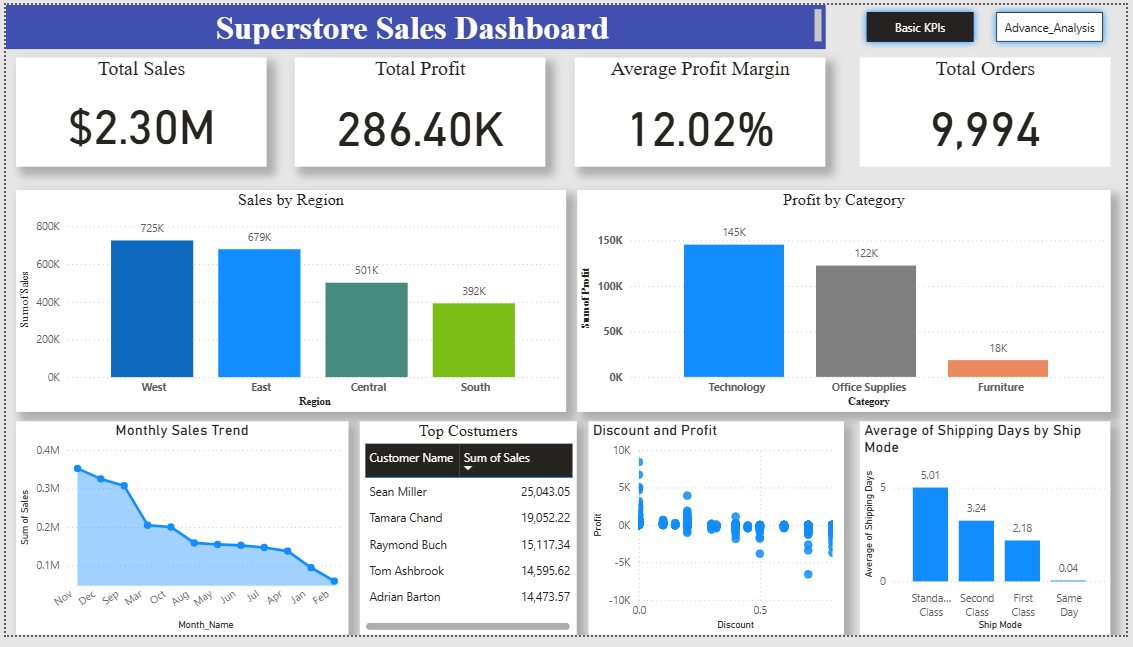

Layout of this report page (visuals, bound fields, positions):
{"tool":"powerbi","page":{"name":"Basic KPIs","canvas":[1280,720],"ordinal":0},"visuals":[{"type":"textbox","box":[0,0,937.1,50],"z":0},{"type":"card","title":"Total Sales","fields":{"Values":["clean_superstore_data.Total_sales"]},"box":[11,60.4,286.8,124.9],"z":1000},{"type":"card","title":"Total Profit","fields":{"Values":["clean_superstore_data.Total_profit"]},"box":[330.7,60.4,286.8,124.9],"z":2000},{"type":"card","title":"Average Profit Margin","fields":{"Values":["clean_superstore_data.Average_profit_margin"]},"box":[650.4,60.4,286.8,124.9],"z":3000},{"type":"card","title":"Total Orders","fields":{"Values":["clean_superstore_data.Total_Orders"]},"box":[975.6,60.4,286.8,124.9],"z":4000},{"type":"columnChart","title":"Sales by Region","fields":{"Y":["Sum(clean_superstore_data.Sales)"],"Category":["clean_superstore_data.Region"]},"box":[11,211.3,628.5,253.9],"z":5000},{"type":"columnChart","title":"Profit by Category","fields":{"Y":["Sum(clean_superstore_data.Profit)"],"Category":["clean_superstore_data.Category"]},"box":[652.5,211.1,610,253.6],"z":6000},{"type":"areaChart","title":"Monthly Sales Trend","fields":{"Category":["clean_superstore_data.Month_Name"],"Y":["Sum(clean_superstore_data.Sales)"]},"box":[11,475.6,379.7,244],"z":7000},{"type":"tableEx","title":"Top Costumers","fields":{"Values":["clean_superstore_data.Customer Name","Sum(clean_superstore_data.Sales)"]},"box":[404.4,475.6,248.1,244],"z":8000},{"type":"scatterChart","fields":{"X":["clean_superstore_data.Discount"],"Y":["clean_superstore_data.Profit"]},"box":[666.2,475.6,292,244],"z":9000},{"type":"columnChart","fields":{"Y":["Avg(clean_superstore_data.Shipping Days)"],"Category":["clean_superstore_data.Ship Mode"]},"box":[976,475.6,286.5,244],"z":10000},{"type":"pageNavigator","box":[975.7,0,287.1,50],"z":10001}]}

Visuals, with their boxes in screenshot pixels (x1, y1, x2, y2), scaled from the page's 1280x720 canvas onto the 1133x647 screenshot:
textbox: [0, 0, 829, 45]
"Total Sales" card: [10, 54, 264, 167]
"Total Profit" card: [293, 54, 547, 167]
"Average Profit Margin" card: [576, 54, 830, 167]
"Total Orders" card: [864, 54, 1117, 167]
"Sales by Region" columnChart: [10, 190, 566, 418]
"Profit by Category" columnChart: [578, 190, 1118, 418]
"Monthly Sales Trend" areaChart: [10, 427, 346, 646]
"Top Costumers" tableEx: [358, 427, 578, 646]
scatterChart - clean_superstore_data.Discount x clean_superstore_data.Profit: [590, 427, 848, 646]
columnChart - Avg(clean_superstore_data.Shipping Days) x clean_superstore_data.Ship Mode: [864, 427, 1118, 646]
pageNavigator: [864, 0, 1118, 45]
